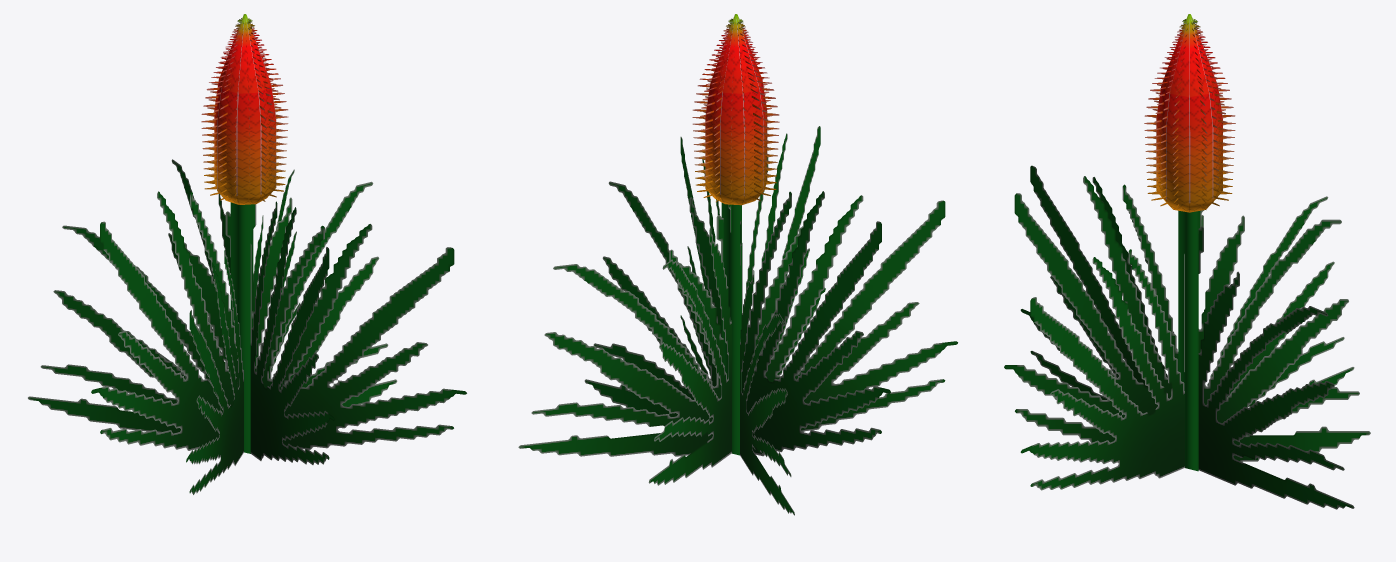
Rendered from red_hot_poker.fbx.
3 views of the same model, side by side, from view 1: azimuth 30°, elevation 25°; view 2: azimuth 150°, elevation 25°; view 3: azimuth 270°, elevation 25° (orthographic). The views are drawn at different scales.
Parts seen in each view (by area): view 1: red_hot_poker; view 2: red_hot_poker; view 3: red_hot_poker.
Part boxes in pixels (x1=…): red_hot_poker: x1=28, y1=14, x2=466, y2=494; red_hot_poker: x1=518, y1=14, x2=957, y2=515; red_hot_poker: x1=1004, y1=14, x2=1370, y2=509.
Size of the model in its own units: 131 by 169 by 131.
1 material, 1 textured.
